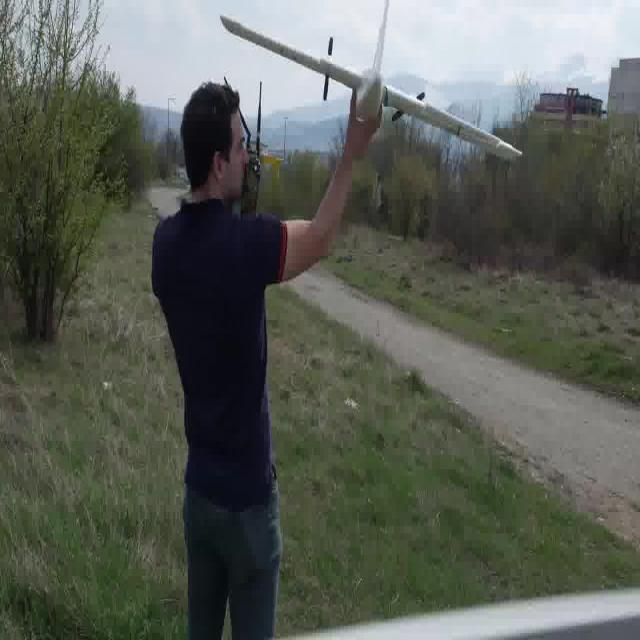iha: (220, 0, 525, 122)
